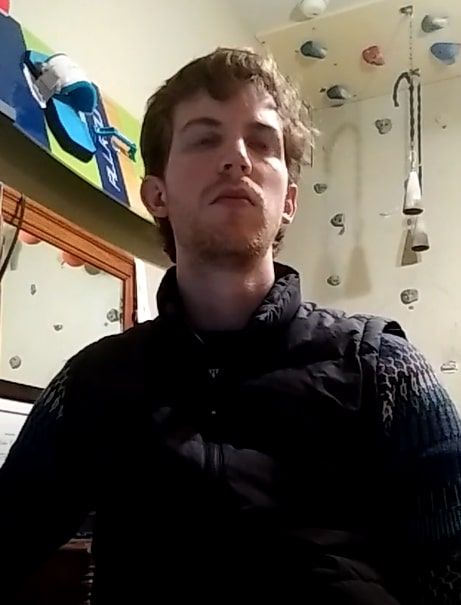Half Asleep: (175, 116, 293, 166)
